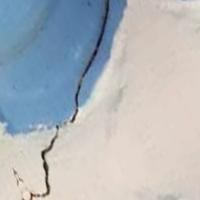crack: (18, 2, 123, 197)
